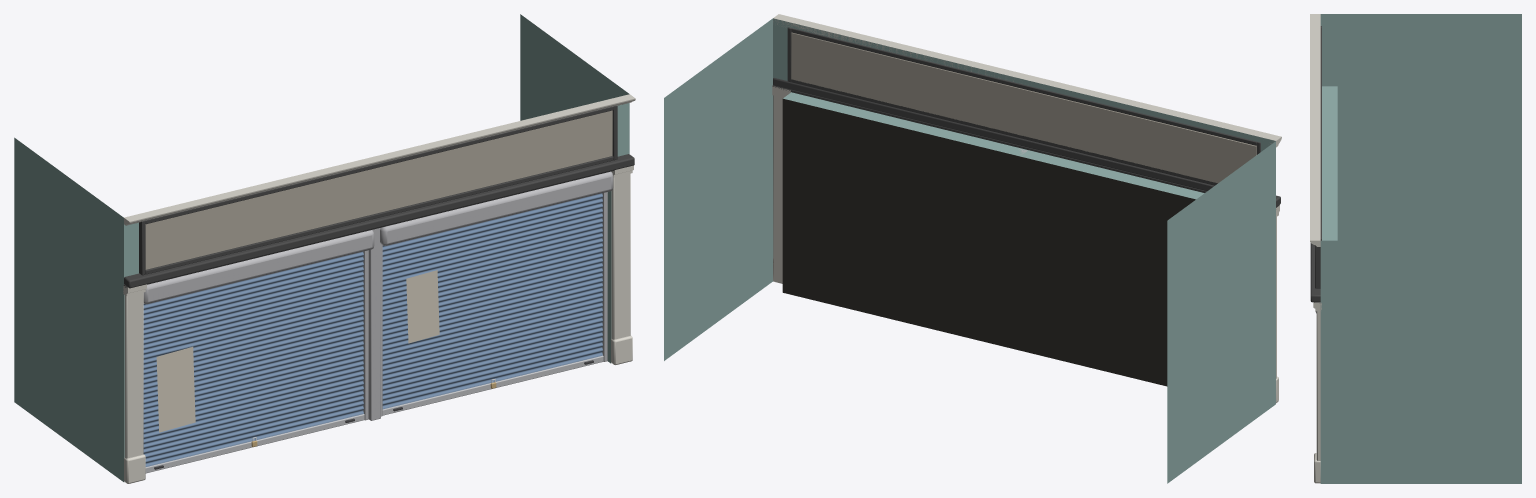
Rendered from shuttered_8a.glb.
The picture shows the model from 3 angles, left to right: view 1: azimuth 30°, elevation 25°; view 2: azimuth 150°, elevation 25°; view 3: azimuth 270°, elevation 25°; orthographic projection. The views are drawn at different scales.
Visible parts, largest first — view 1: shuttered_8a; view 2: shuttered_8a; view 3: shuttered_8a.
Boxes of the visible parts, box(x1,y1,x2,y2) form: shuttered_8a: box(14, 14, 635, 483); shuttered_8a: box(664, 14, 1281, 483); shuttered_8a: box(1310, 14, 1521, 483).
Size of the model in its own units: 8 by 4 by 3.16.
